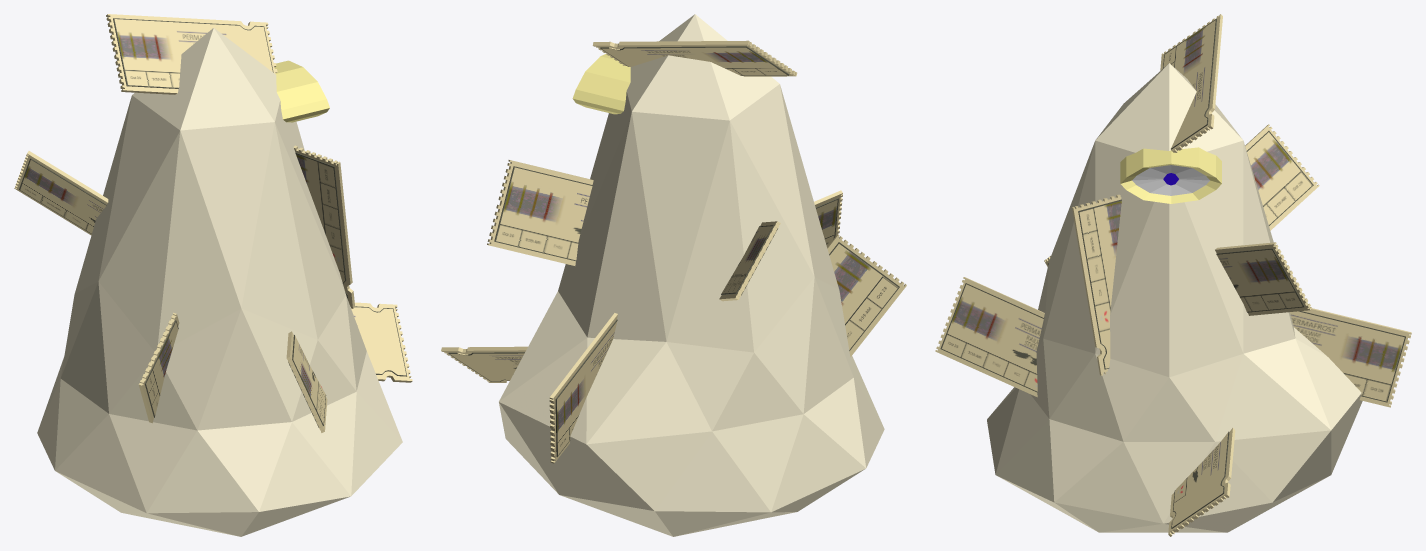
The model's file is TicketsPlease.fbx.
3 renders of one model, left to right at view 1: azimuth 30°, elevation 25°; view 2: azimuth 150°, elevation 25°; view 3: azimuth 270°, elevation 25°, orthographic. The views are drawn at different scales.
Visible parts, largest first — view 1: TicketsPlease; view 2: TicketsPlease; view 3: TicketsPlease.
Part boxes in pixels (x1,y1,x2,y2): TicketsPlease: [14, 14, 412, 536]; TicketsPlease: [441, 14, 906, 536]; TicketsPlease: [935, 14, 1411, 536].
Size of the model in its own units: 277 by 348 by 322.
